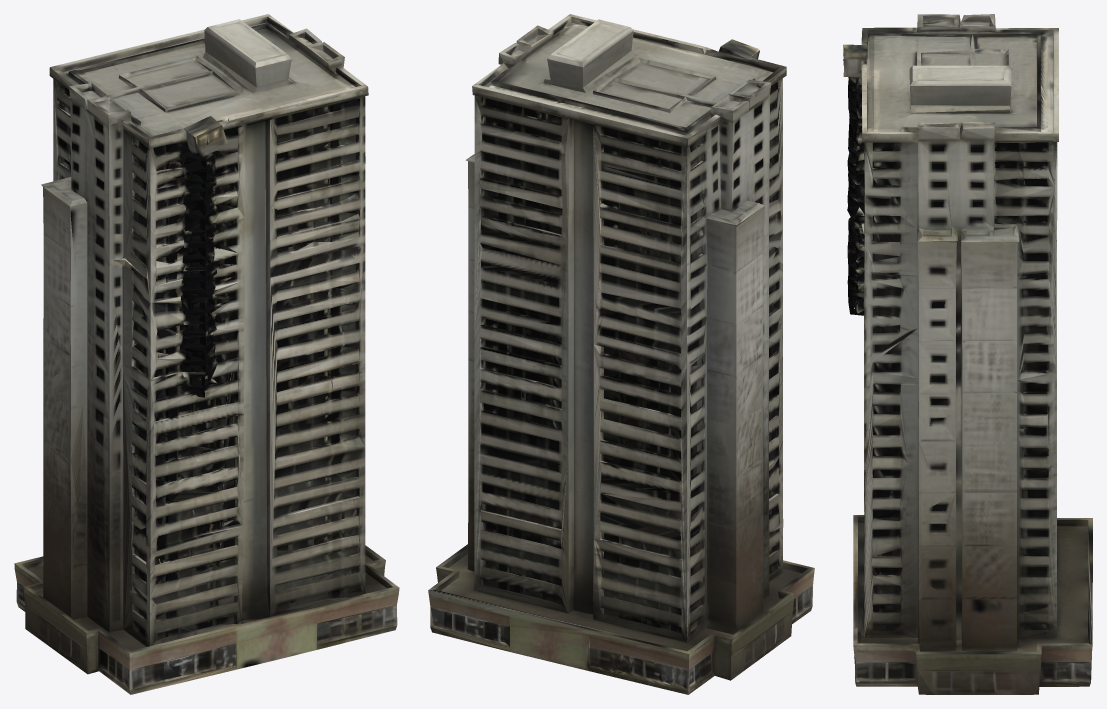
3 views of the same model, side by side, from view 1: azimuth 30°, elevation 25°; view 2: azimuth 150°, elevation 25°; view 3: azimuth 270°, elevation 25° (orthographic).
Parts seen in each view (by area): view 1: node_0.027; view 2: node_0.027; view 3: node_0.027.
Part boxes in pixels (box(x1,y1,x2,y2)): node_0.027: box(14, 14, 399, 694); node_0.027: box(428, 14, 814, 694); node_0.027: box(843, 14, 1092, 694).
Size of the model in its own units: 3.73 by 6.84 by 2.73.
1 material, 1 textured.
